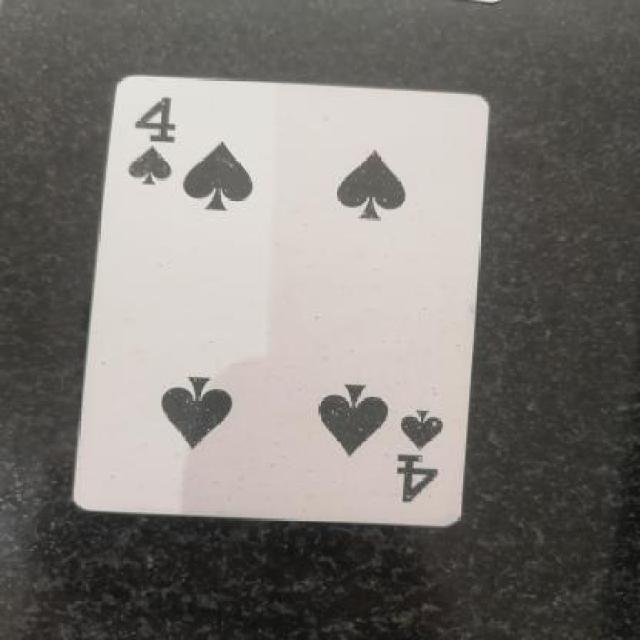4S: (103, 93, 206, 212), (387, 394, 458, 514)
